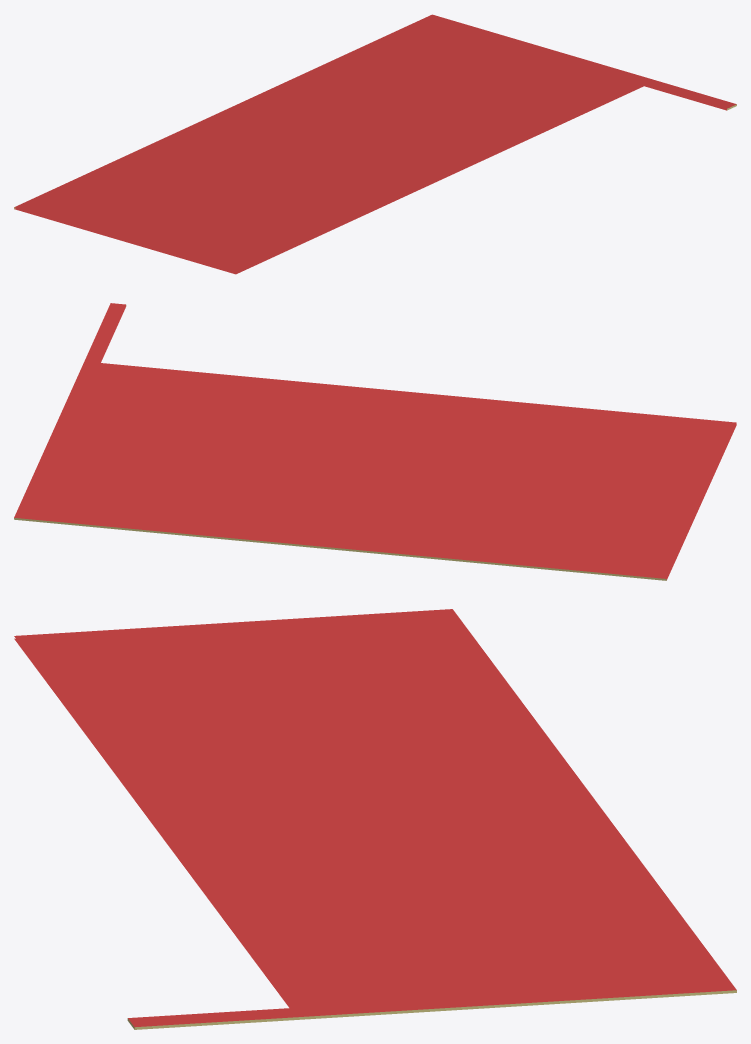
3 views of the same model, one above another, from view 1: azimuth 30°, elevation 25°; view 2: azimuth 150°, elevation 25°; view 3: azimuth 270°, elevation 25° (orthographic). The views are drawn at different scales.
Size of the model in its own units: 36.16 by 23.94 by 1.68.
